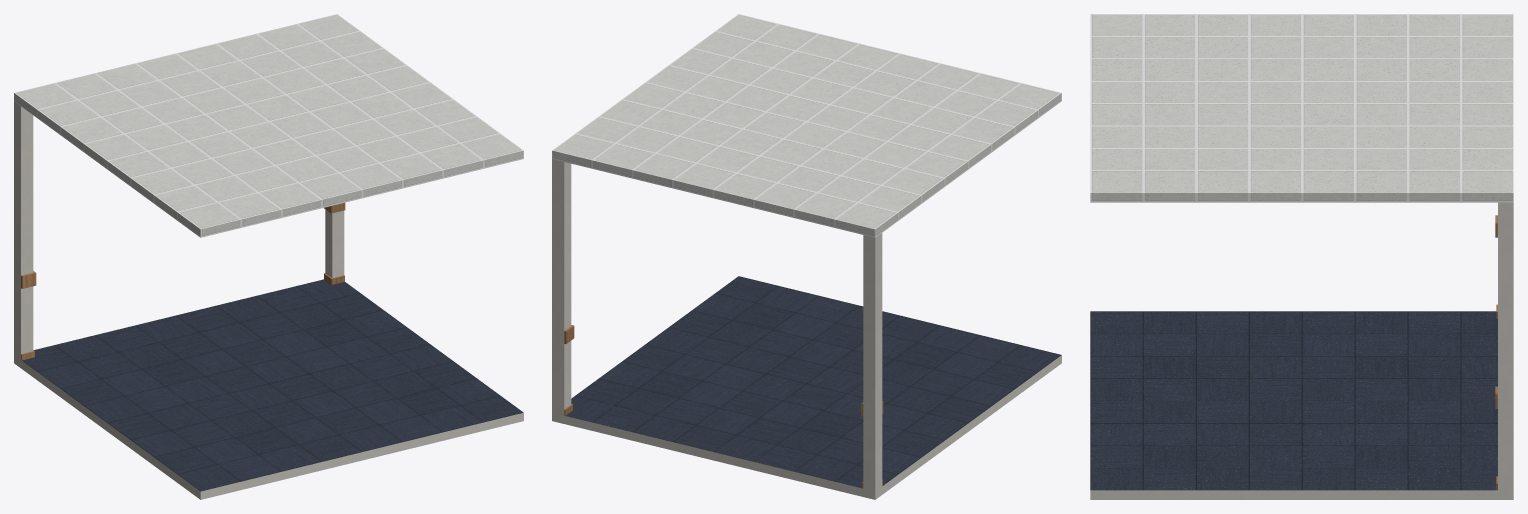
Rendered from Room_Office_Opening_NoLight.glb.
3 renders of one model, left to right at view 1: azimuth 30°, elevation 25°; view 2: azimuth 150°, elevation 25°; view 3: azimuth 270°, elevation 25°, orthographic. The views are drawn at different scales.
Visible parts, largest first — view 1: Room_Office_Opening_NoLight, Room_Office_Opening_NoLight_Ceiling; view 2: Room_Office_Opening_NoLight, Room_Office_Opening_NoLight_Ceiling; view 3: Room_Office_Opening_NoLight, Room_Office_Opening_NoLight_Ceiling.
Part boxes in pixels (x1,y1,x2,y2): Room_Office_Opening_NoLight: (14, 101, 523, 499); Room_Office_Opening_NoLight_Ceiling: (14, 14, 523, 237); Room_Office_Opening_NoLight: (552, 159, 1061, 499); Room_Office_Opening_NoLight_Ceiling: (552, 14, 1061, 237); Room_Office_Opening_NoLight: (1090, 202, 1513, 499); Room_Office_Opening_NoLight_Ceiling: (1090, 14, 1513, 202).
Size of the model in its own units: 4 by 3.2 by 4.
4 materials, 4 textured.
